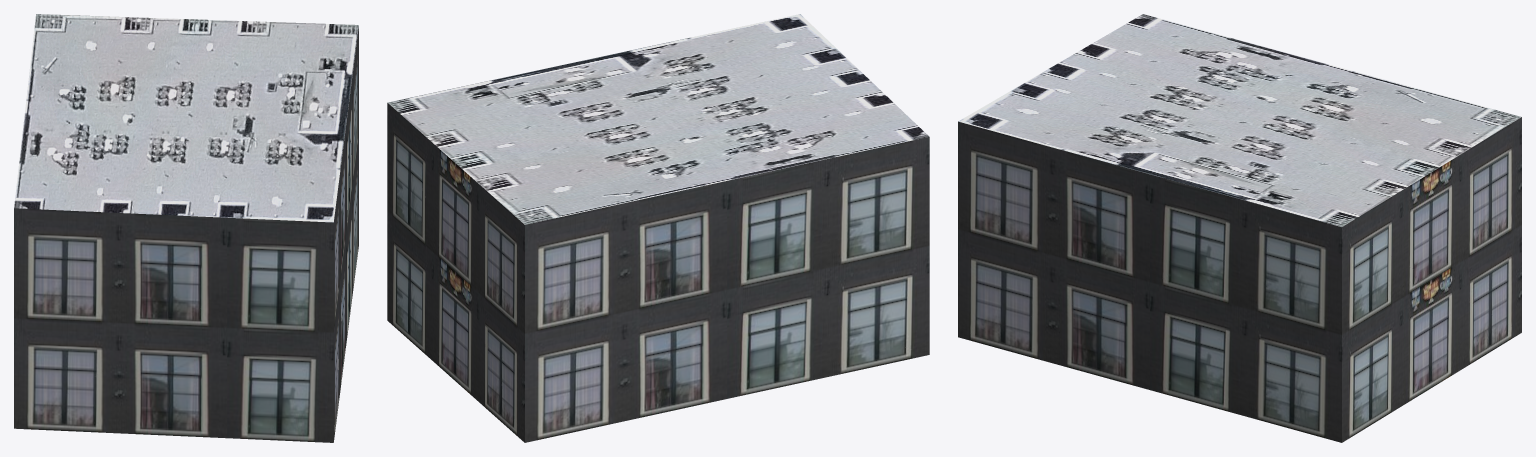
File: ResTex__2091.fbx
3 renders of one model, left to right at view 1: azimuth 30°, elevation 25°; view 2: azimuth 150°, elevation 25°; view 3: azimuth 270°, elevation 25°, orthographic. The views are drawn at different scales.
Visible parts, largest first — view 1: CityEngineMaterial_22_m, CityEngineMaterial_m; view 2: CityEngineMaterial_22_m, CityEngineMaterial_m; view 3: CityEngineMaterial_22_m, CityEngineMaterial_m.
Part boxes in pixels (box(x1,y1,x2,y2)): CityEngineMaterial_22_m: box(14, 26, 358, 442); CityEngineMaterial_m: box(14, 14, 358, 222); CityEngineMaterial_22_m: box(387, 103, 929, 442); CityEngineMaterial_m: box(387, 14, 929, 224); CityEngineMaterial_22_m: box(958, 117, 1521, 442); CityEngineMaterial_m: box(958, 14, 1521, 226).
Bounding box in the file's own units: 12.72 × 6 × 14.21.
Materials: 2 (2 with a texture image).
